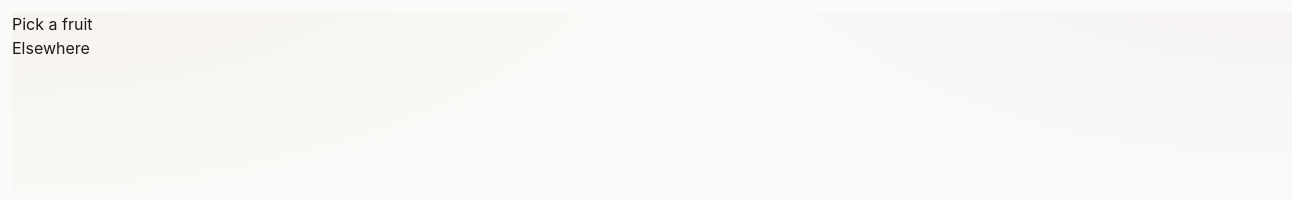
Menu › a tap anywhere else closes it; a tap inside doesn't
The image size is (1292, 200).
Step 1. Click the button "Pick a fruit" → [52, 24], box [12,12,92,36]
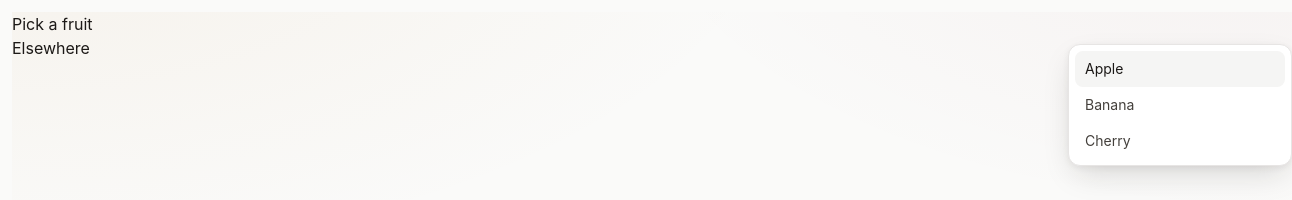
Step 2. Press the mouse on the menu item "Banana" → [1180, 105], box [1075,87,1285,123]
Expected: the menu is shown, [1068,44,1291,166]
Step 3. Press the mouse on the text "Elsewhere" → [51, 48], box [12,38,90,58]
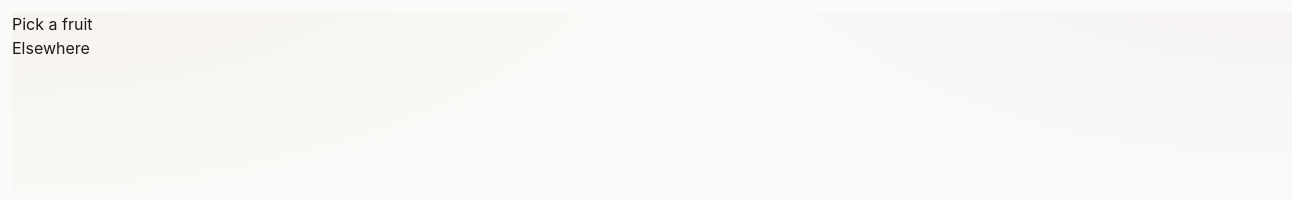
Expected: the menu is gone
